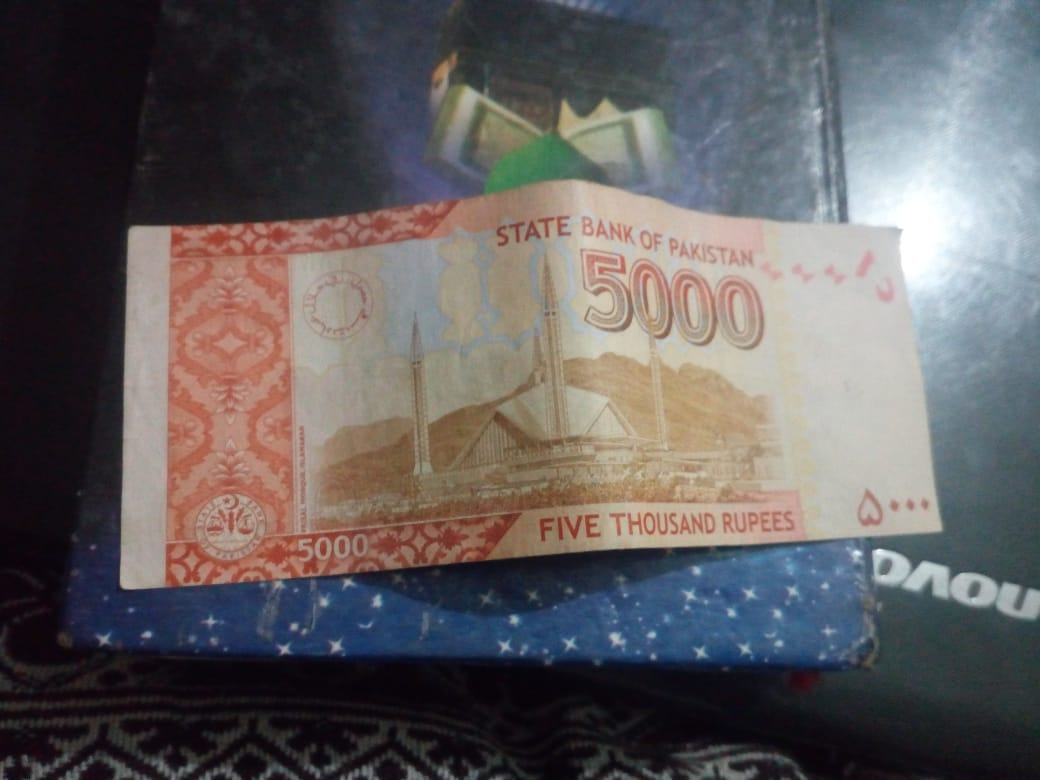5000 rupee: (93, 181, 943, 602)
